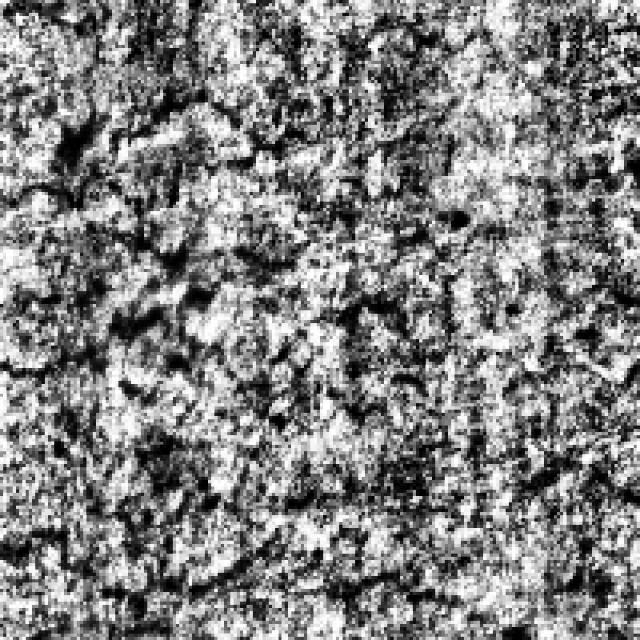Pitted_Surface: (3, 74, 403, 388), (12, 448, 534, 630)
